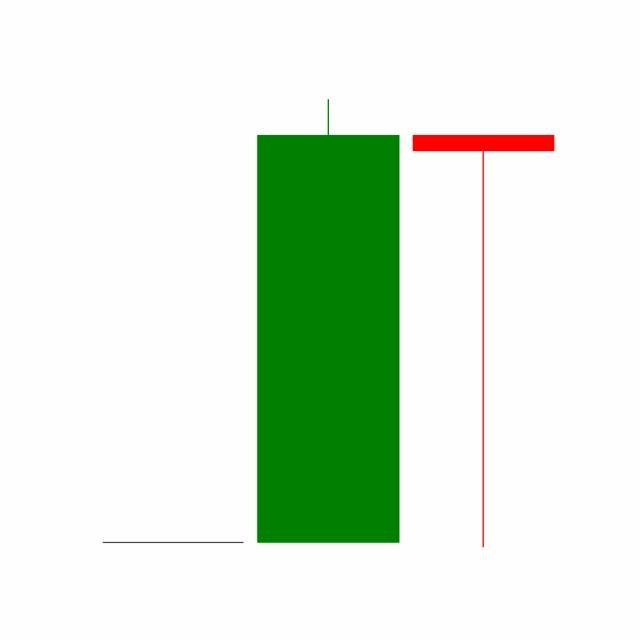Hammer: (405, 129, 561, 551)
